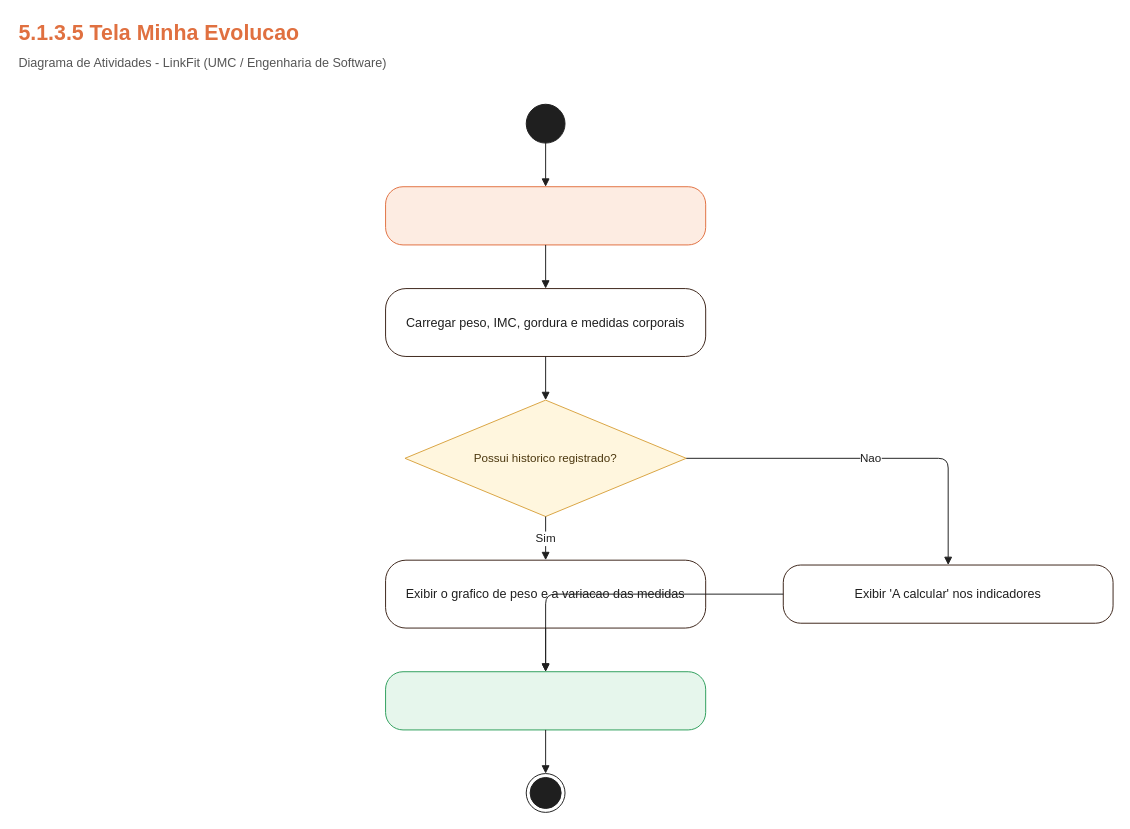
Image size: 1130x829. Some labels were removed from this diagram. Each missing label, with the centre of its shape:
"Evolucao fisica apresentada" goes at point 545,700.
"Tela Minha Evolucao" goes at point 545,215.
